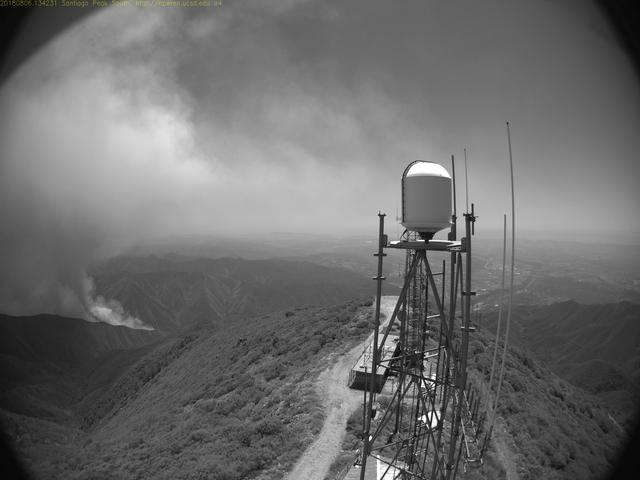smoke: (0, 80, 170, 337)
